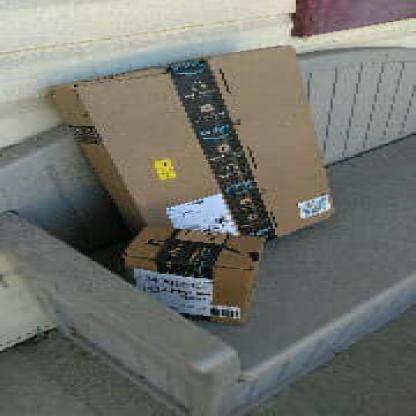package: (48, 45, 335, 240), (122, 225, 265, 324)
